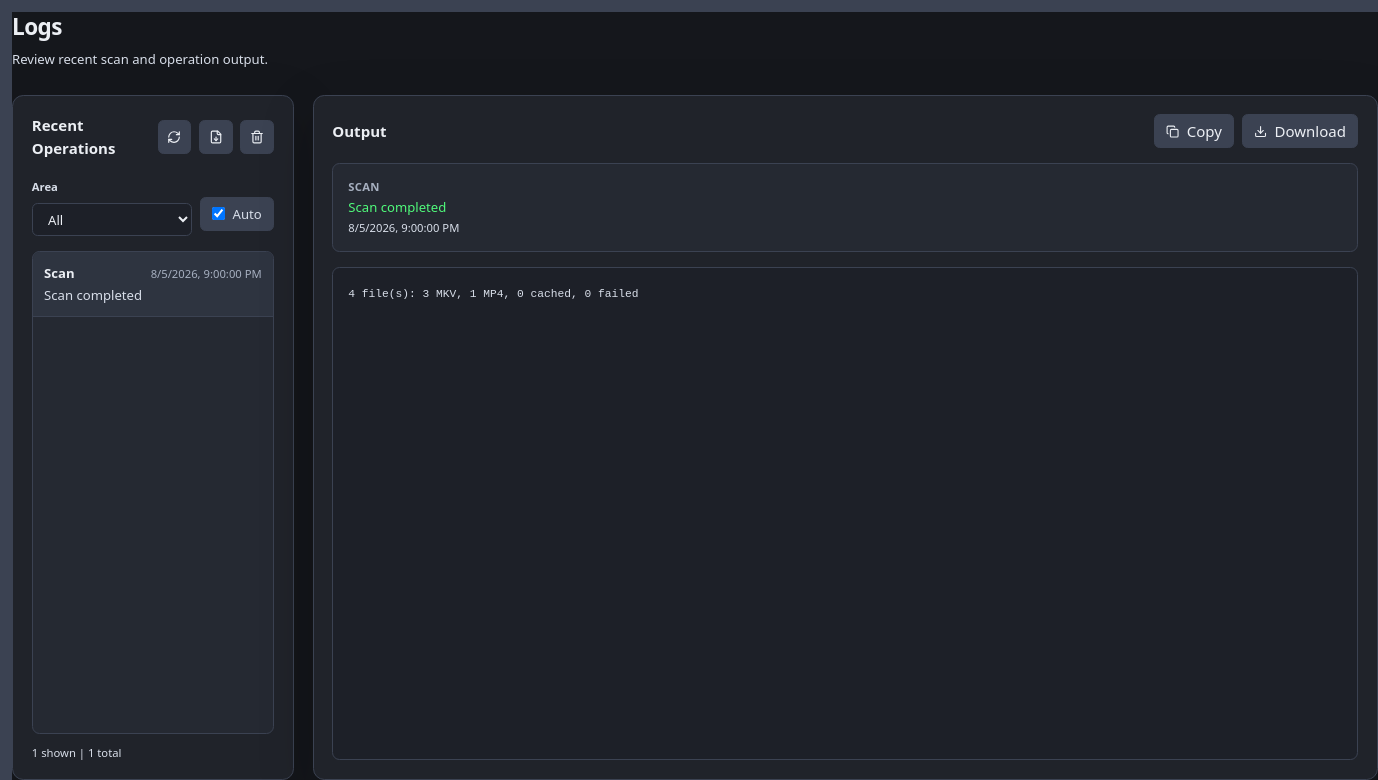
Logs page › downloads the backend-rendered export rather than the visible rows
Click the button titled "export all logs" at (216, 137), box [199, 120, 233, 154]
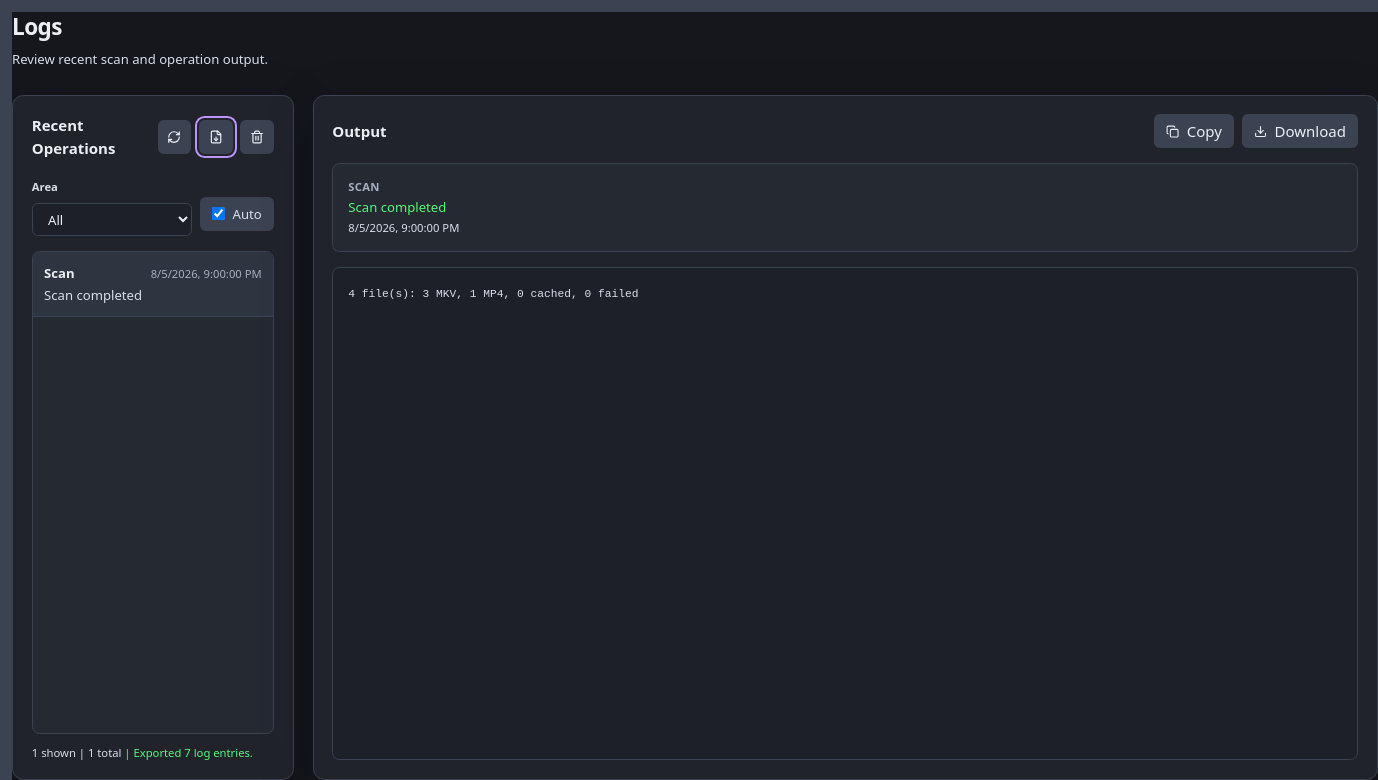
Result: the text "| Exported 7 log entries." is shown at [124, 745, 253, 760]
